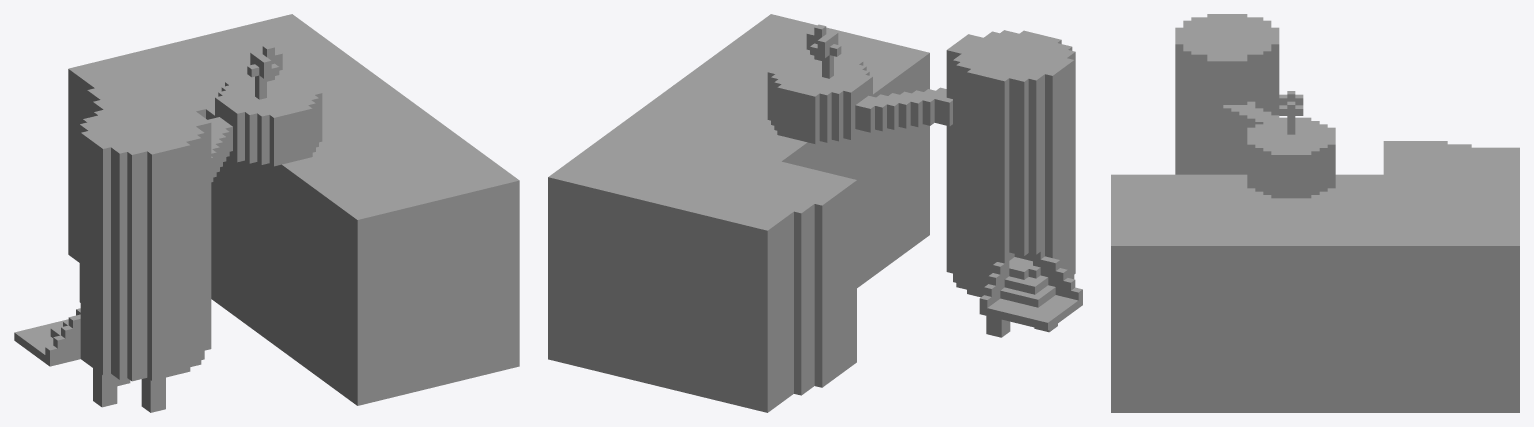
Rendered from kagakukan.glb.
The picture shows the model from 3 angles, left to right: view 1: azimuth 30°, elevation 25°; view 2: azimuth 150°, elevation 25°; view 3: azimuth 270°, elevation 25°; orthographic projection. The views are drawn at different scales.
Parts seen in each view (by area): view 1: Untitled; view 2: Untitled; view 3: Untitled.
Boxes of the visible parts, bbox=[...] form: Untitled: bbox=[14, 14, 519, 412]; Untitled: bbox=[548, 14, 1082, 412]; Untitled: bbox=[1111, 14, 1519, 412].
Bounding box in the file's own units: 5.1 × 3.5 × 5.1.
1 material, 1 textured.
